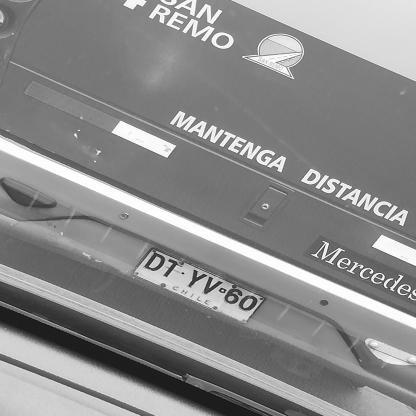Patente: (130, 248, 266, 324)
